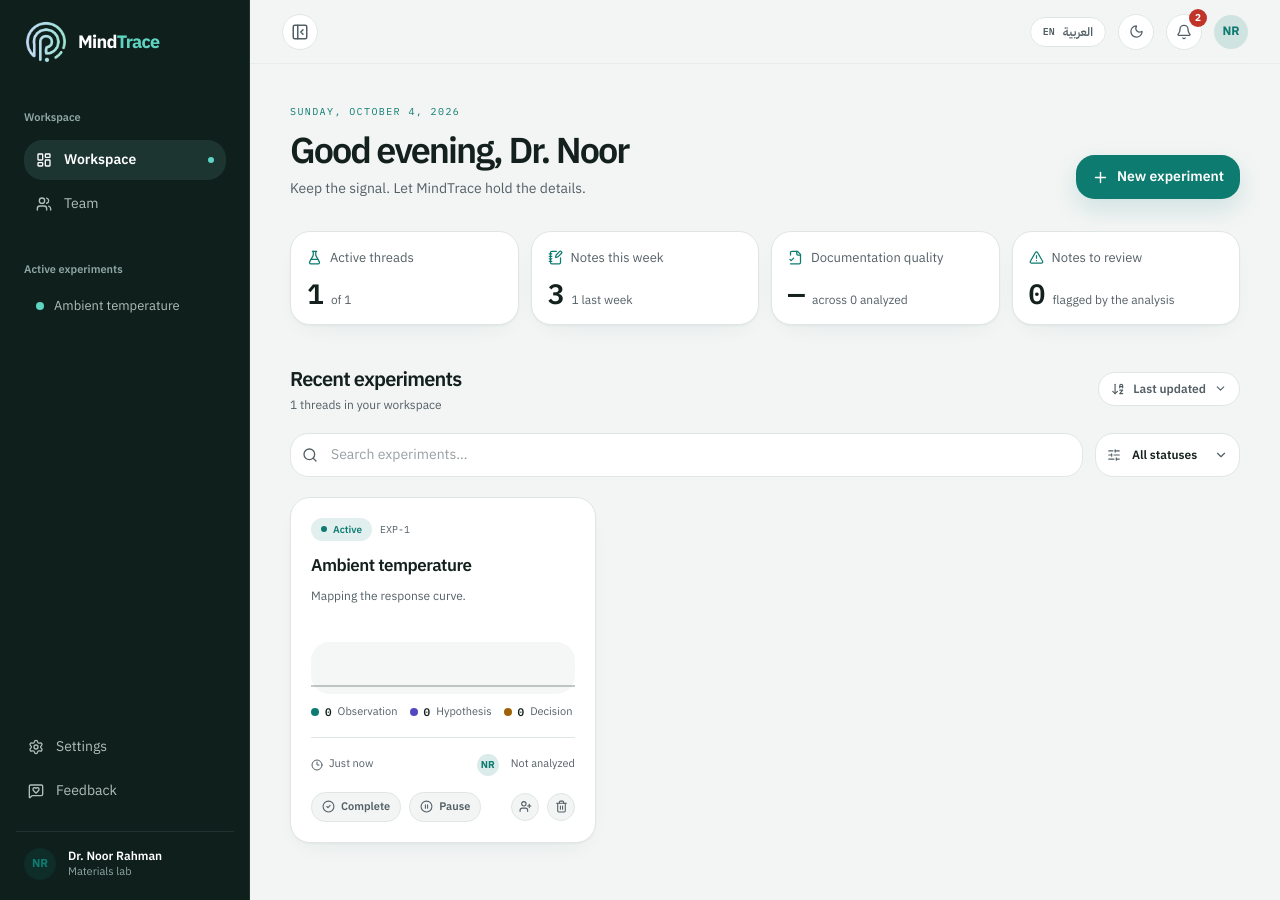
notifications › the bell lists notifications and "mark all read" clears the badge
The width and height of the screenshot is (1280, 900).
Expected: the text with test id "badge-notifications" reads "2", [1195,10,1201,25]
What coordinates should you click on to do the following:
click the button with test id "button-notifications"
I would click on:
 (1184, 32)
Its box is [1166,14,1202,50].
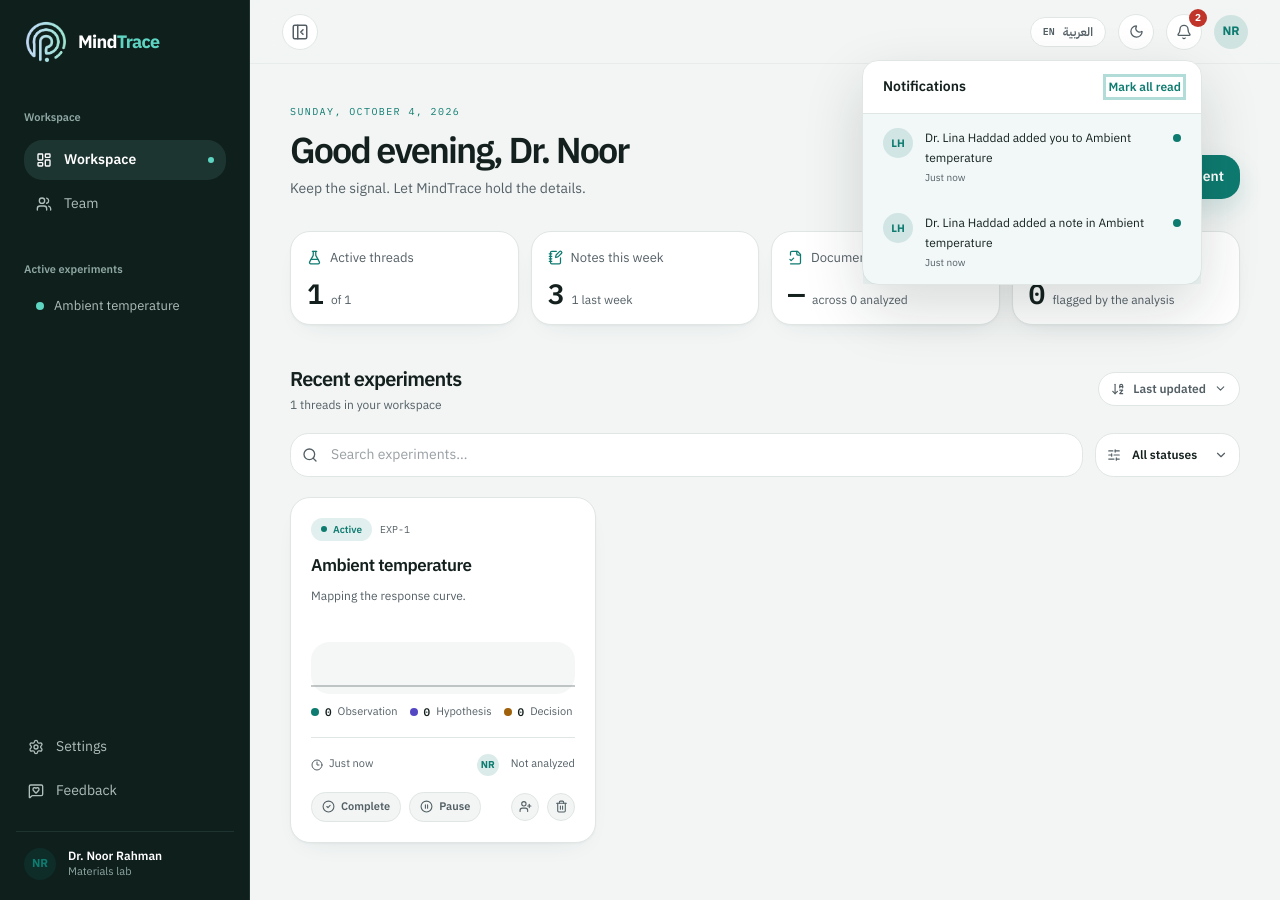
Expected: the dialog with test id "popover-notifications" shows "Dr. Lina Haddad added you to Ambient temperature", [863,114,1201,199]
Expected: the dialog with test id "popover-notifications" shows "Dr. Lina Haddad added a note in Ambient temperature", [863,199,1201,284]
What coordinates should you click on to do the following:
click the button with test id "button-mark-all-read"
I would click on:
 (1145, 87)
Its box is [1108,79,1181,95].
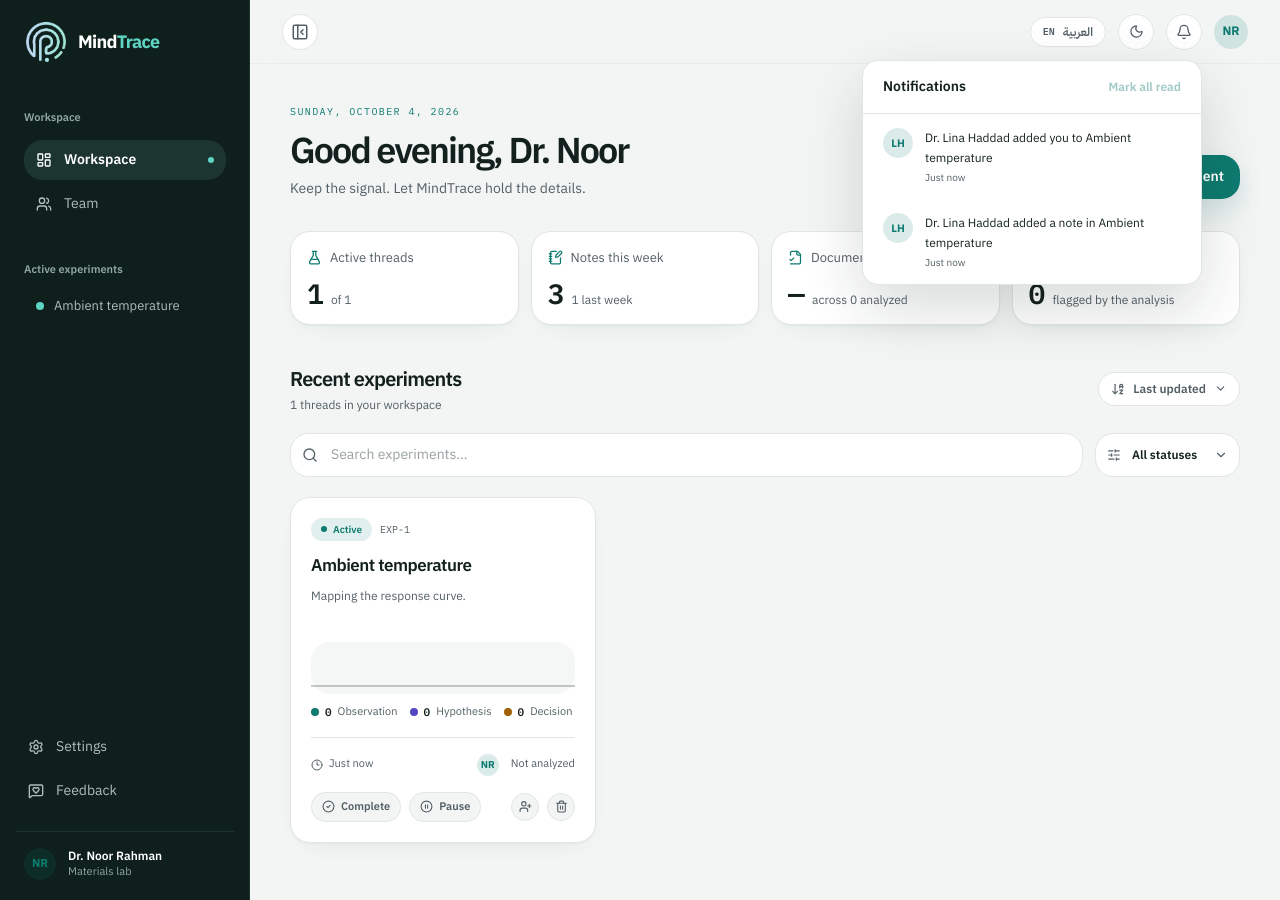
Expected: the text with test id "badge-notifications" is gone
